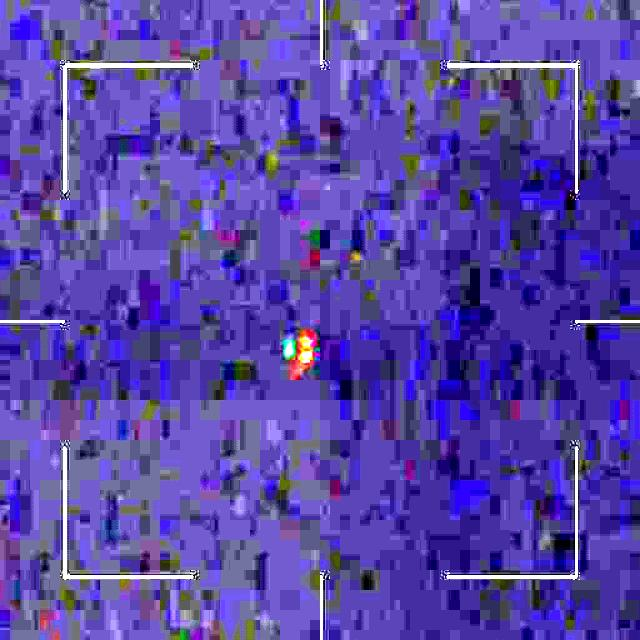bird: (284, 331, 314, 374)
